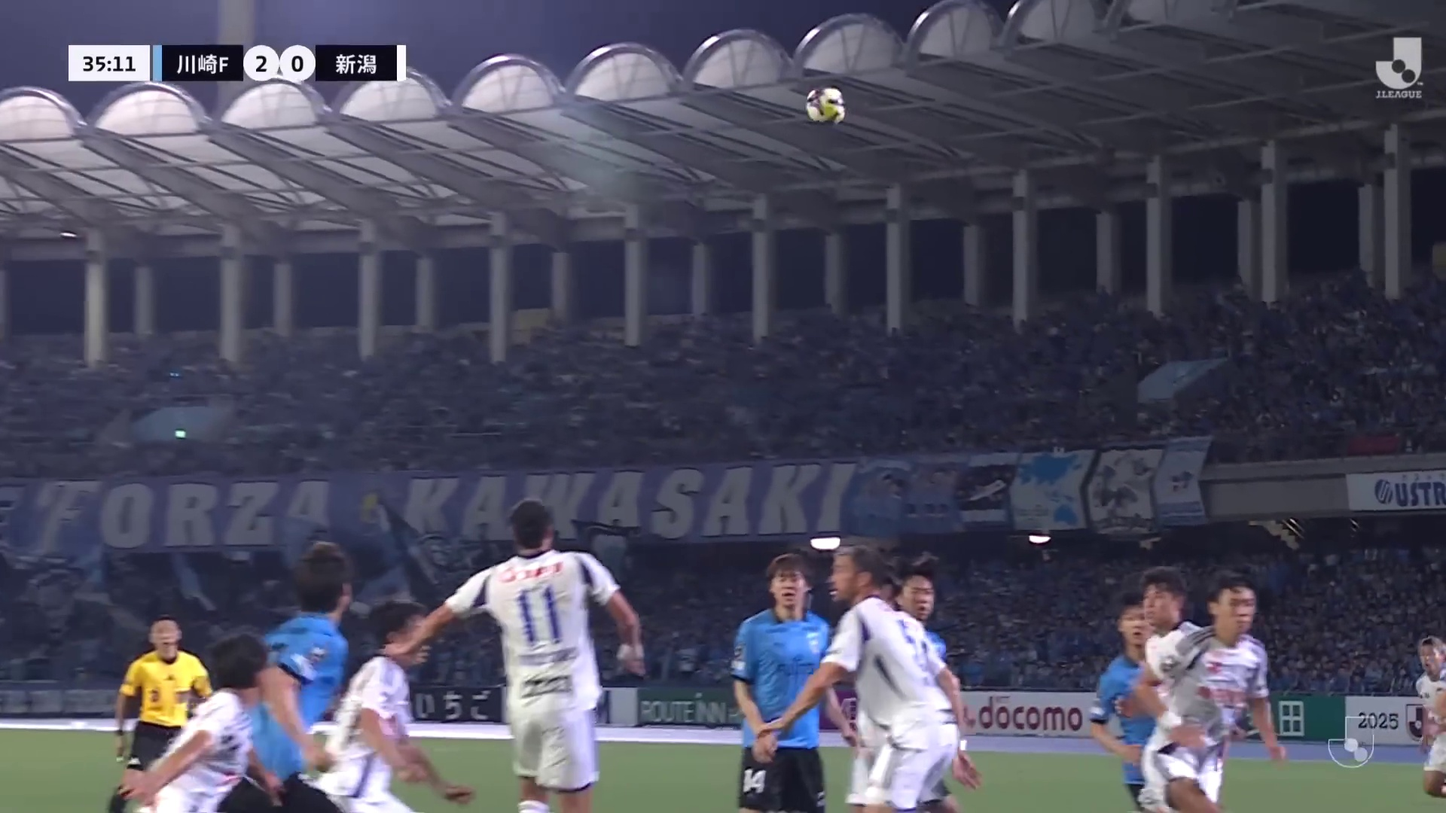ball: (801, 84, 848, 125)
player: (383, 498, 644, 813), (755, 534, 961, 813), (1130, 572, 1288, 811), (319, 589, 473, 813), (730, 552, 851, 813), (116, 626, 269, 813), (248, 540, 352, 813), (1084, 593, 1158, 811), (1140, 570, 1207, 690), (1406, 635, 1446, 803), (895, 552, 948, 660)
referee: (110, 620, 213, 813)
